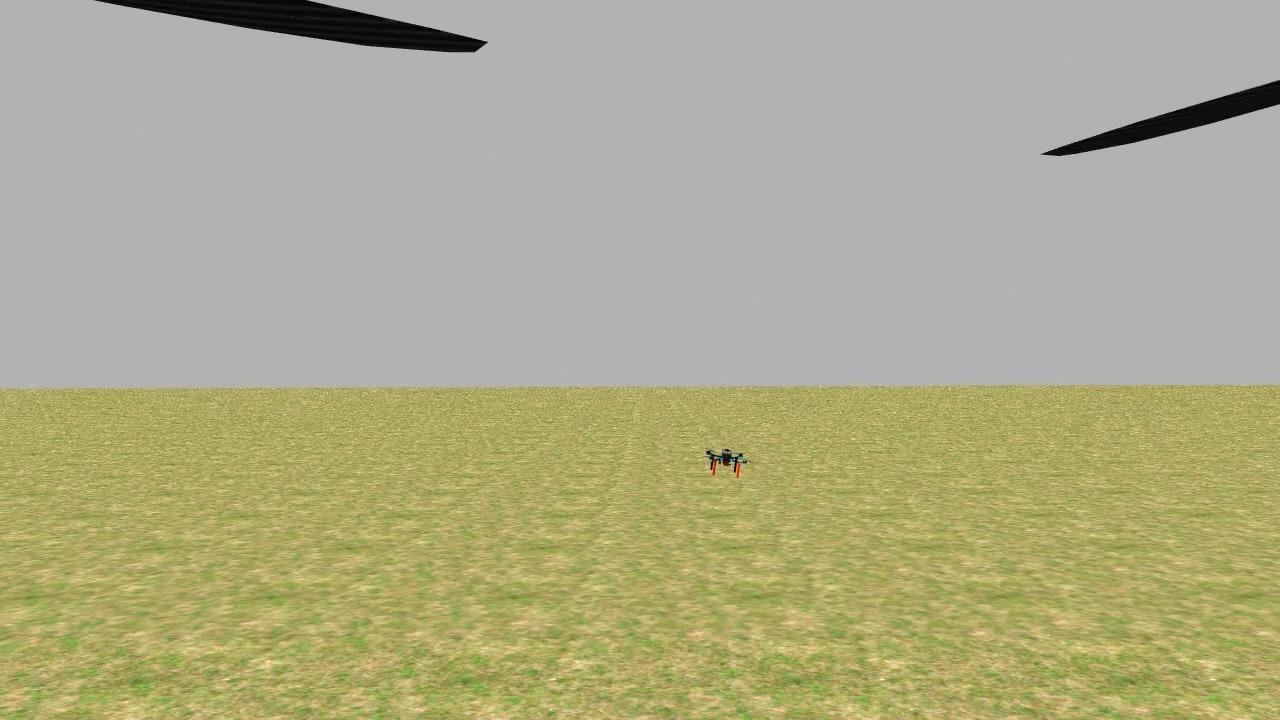UAV: (667, 422, 782, 498)
